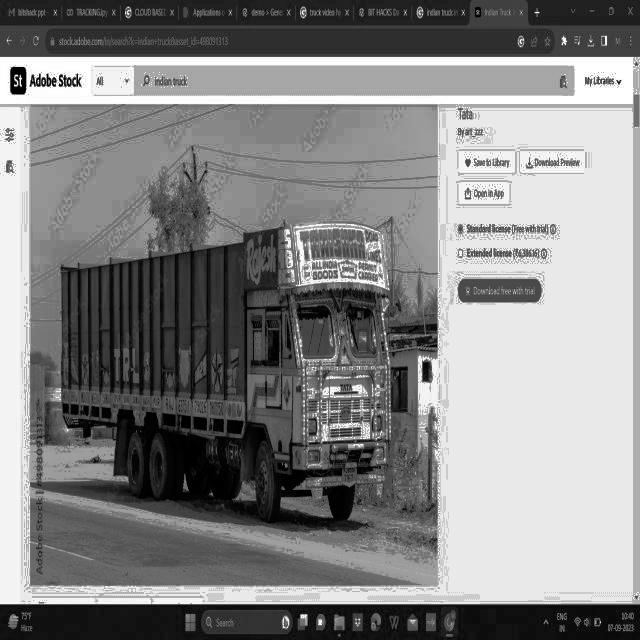HCV: (44, 149, 426, 549)
